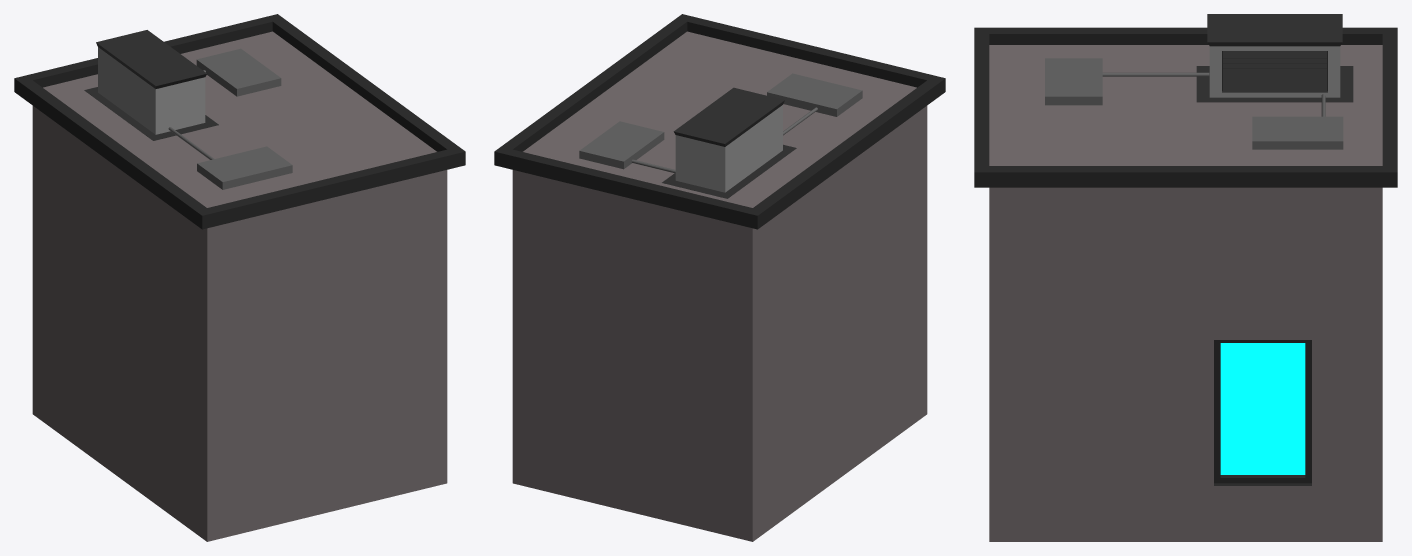
The model's file is shopBuilding.fbx.
The picture shows the model from 3 angles, left to right: view 1: azimuth 30°, elevation 25°; view 2: azimuth 150°, elevation 25°; view 3: azimuth 270°, elevation 25°; orthographic projection. The views are drawn at different scales.
Visible parts, largest first — view 1: Cube.001; view 2: Cube.001; view 3: Cube.001.
Part boxes in pixels (box(x1,y1,x2,y2)): Cube.001: box(14, 14, 465, 541); Cube.001: box(494, 14, 945, 541); Cube.001: box(974, 14, 1397, 541).
Bounding box in the file's own units: 522 × 707 × 645.
